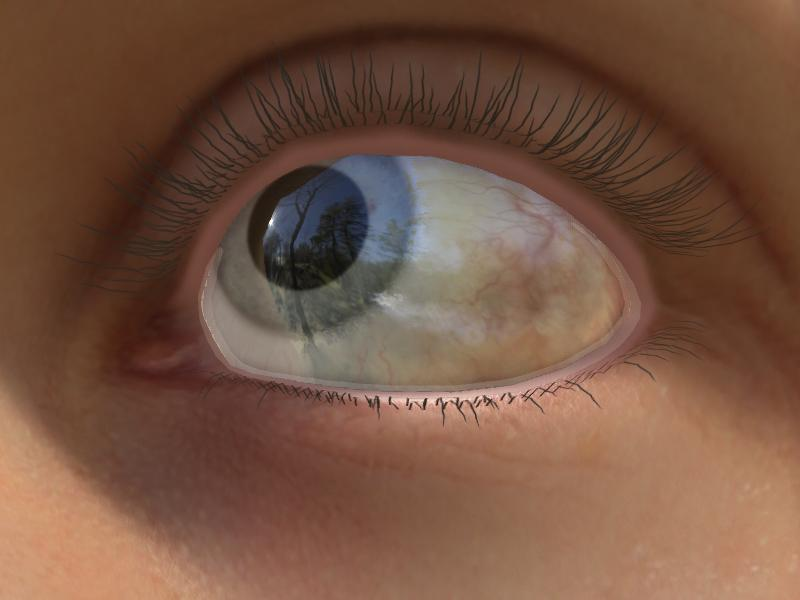eye: (212, 153, 420, 336)
